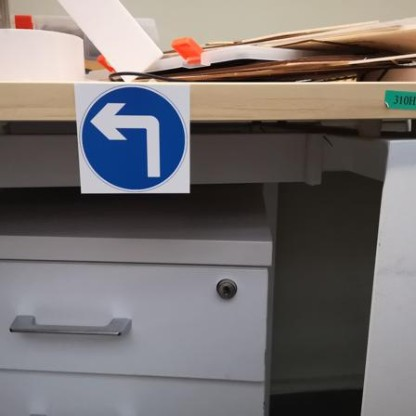left: (66, 76, 198, 197)
